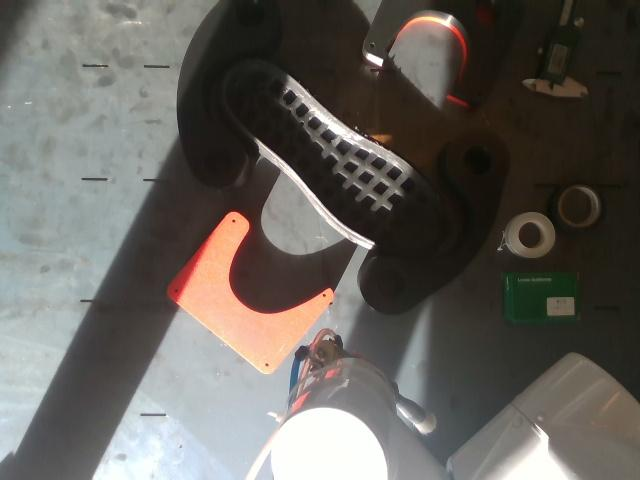shoes: (226, 61, 457, 257)
